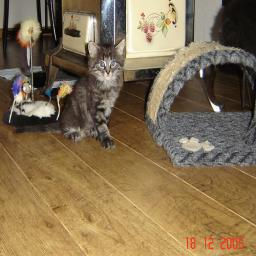catnose: (107, 70, 110, 76)
